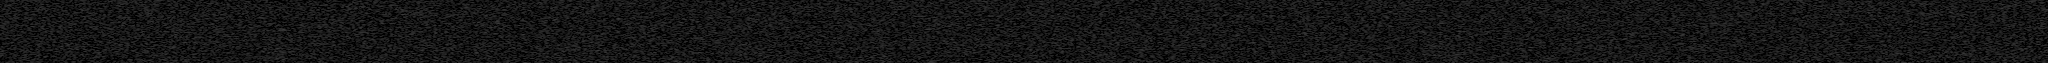wv_am: (133, 0, 138, 63)
wv_cw: (39, 0, 44, 63)
wv_lsb: (47, 1, 54, 63)
wv_usb: (61, 30, 65, 47), (61, 7, 65, 20), (61, 49, 65, 56), (61, 21, 65, 29), (61, 1, 65, 7), (61, 59, 65, 63)
